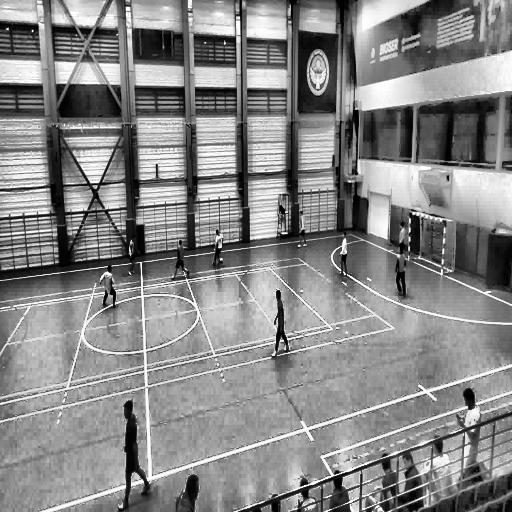ball: (219, 258, 224, 266)
player: (120, 400, 152, 508), (271, 290, 289, 356), (98, 264, 116, 308), (172, 239, 190, 279), (128, 233, 141, 280), (395, 246, 406, 296), (212, 228, 222, 266), (339, 230, 347, 276), (298, 211, 307, 248), (398, 220, 407, 257)
